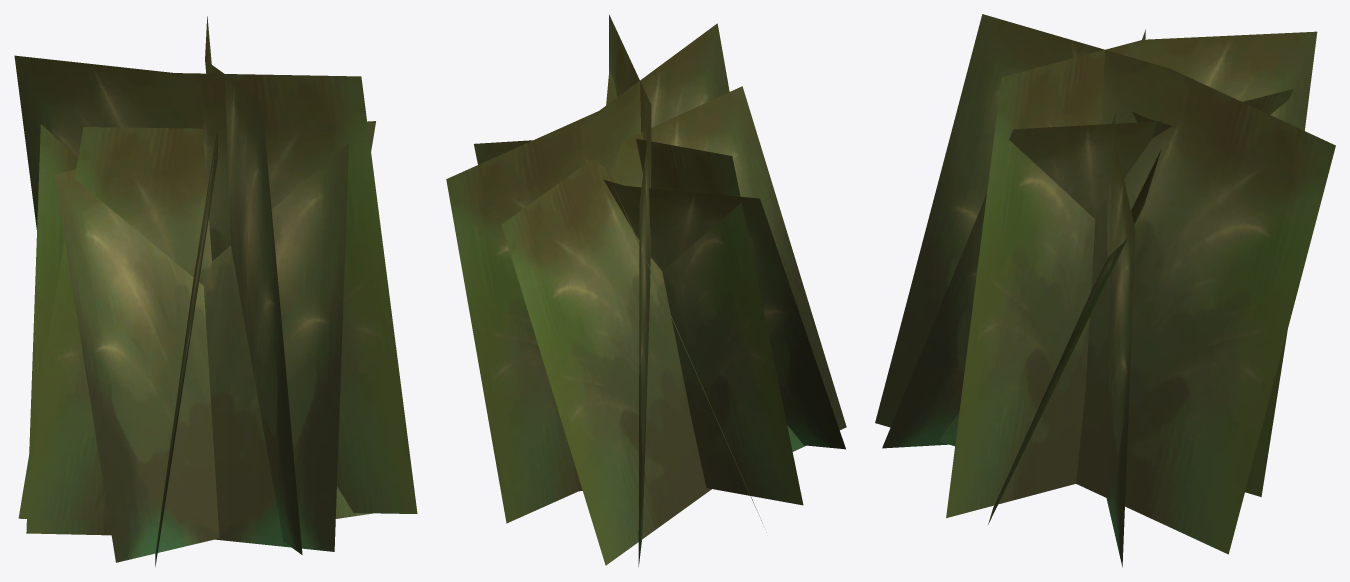
File: Wetland_GrassPatch_2.fbx
3 views of the same model, side by side, from view 1: azimuth 30°, elevation 25°; view 2: azimuth 150°, elevation 25°; view 3: azimuth 270°, elevation 25° (orthographic). The views are drawn at different scales.
Visible parts, largest first — view 1: Wetland_GrassPatch_2; view 2: Wetland_GrassPatch_2; view 3: Wetland_GrassPatch_2.
Boxes of the visible parts, x1=… form: Wetland_GrassPatch_2: x1=14, y1=16, x2=417, y2=566; Wetland_GrassPatch_2: x1=446, y1=14, x2=846, y2=566; Wetland_GrassPatch_2: x1=875, y1=14, x2=1335, y2=567.
Bounding box in the file's own units: 239 × 313 × 264.
Materials: 1 (1 with a texture image).
